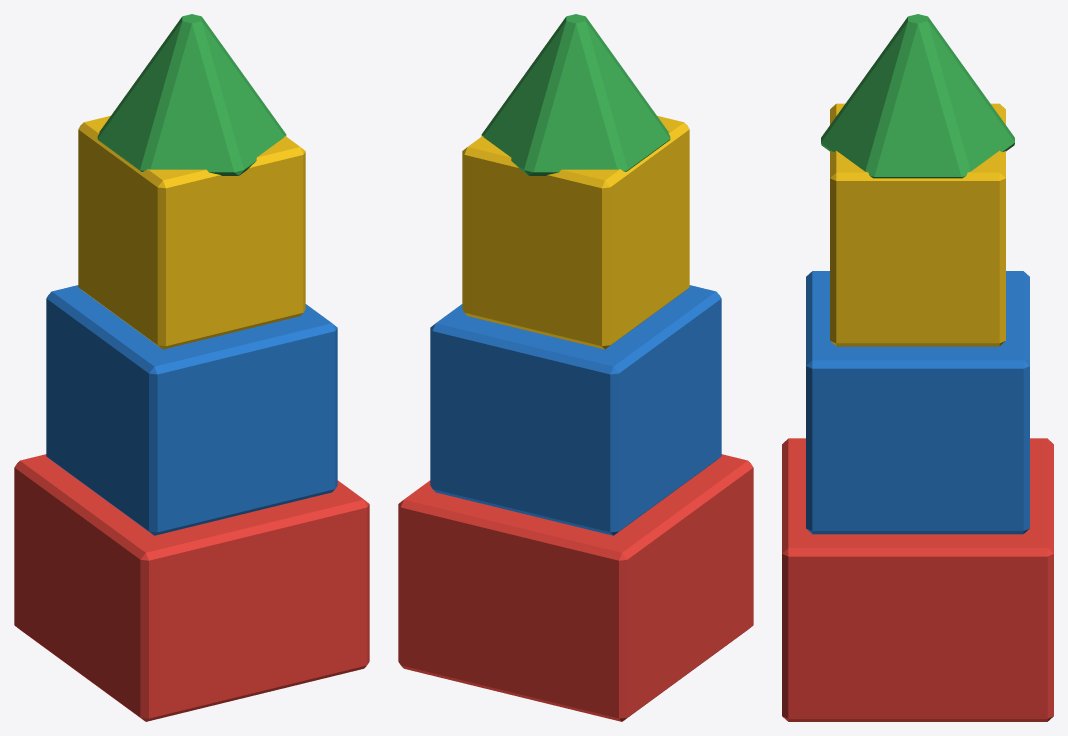
Rendered from finish_tower.glb.
3 renders of one model, left to right at view 1: azimuth 30°, elevation 25°; view 2: azimuth 150°, elevation 25°; view 3: azimuth 270°, elevation 25°, orthographic. The views are drawn at different scales.
Visible parts, largest first — view 1: finish_tower; view 2: finish_tower; view 3: finish_tower.
Part boxes in pixels (x1,y1,x2,y2): finish_tower: (14,14,369,721); finish_tower: (398,14,753,721); finish_tower: (782,14,1053,721).
Size of the model in its own units: 0.34 by 0.8944 by 0.34.
